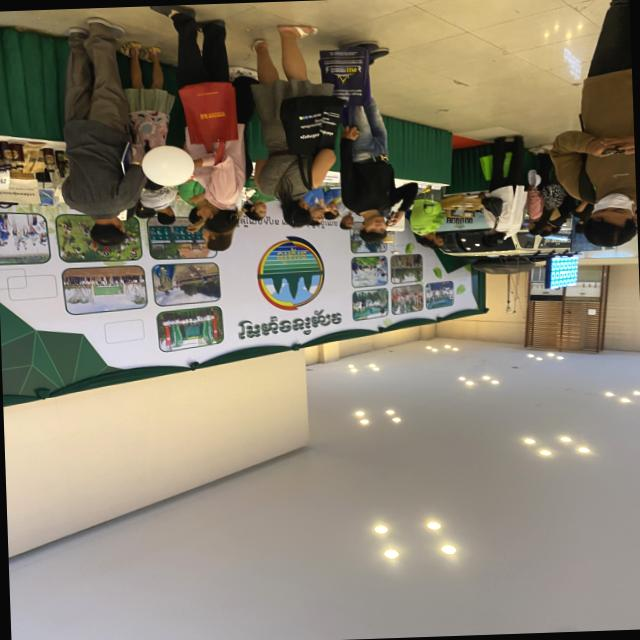Yolov11_80vkh: (231, 306, 345, 344), (269, 245, 312, 265)
